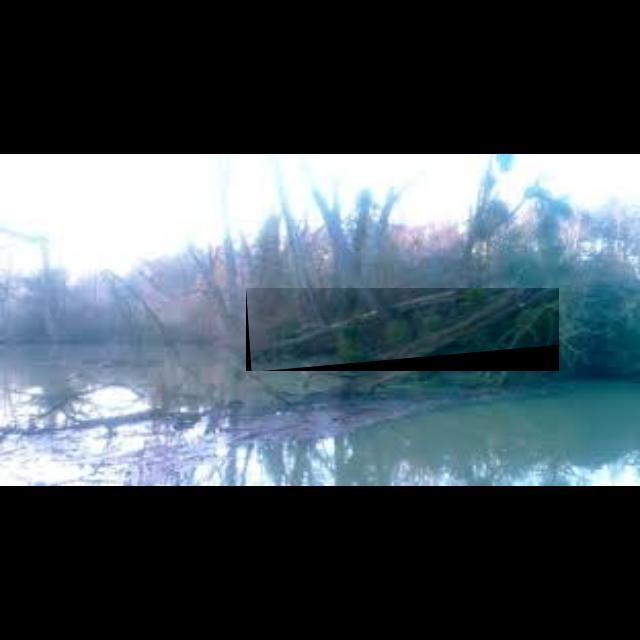fallen_tree: (246, 288, 560, 372)
